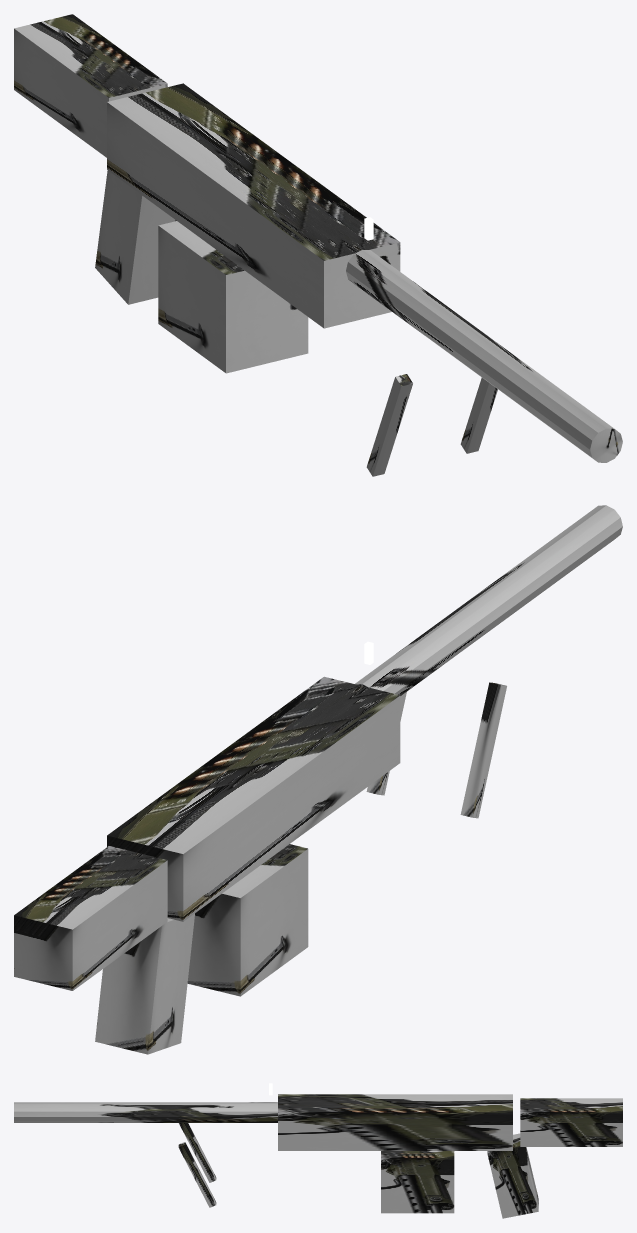
The model's file is lmg.glb.
The picture shows the model from 3 angles, top to bottom: view 1: azimuth 30°, elevation 25°; view 2: azimuth 150°, elevation 25°; view 3: azimuth 270°, elevation 25°; orthographic projection. The views are drawn at different scales.
Visible parts, largest first — view 1: WeaponMesh; view 2: WeaponMesh; view 3: WeaponMesh.
Part boxes in pixels (x1,y1,x2,y2): WeaponMesh: (14, 14, 622, 476); WeaponMesh: (14, 505, 622, 1054); WeaponMesh: (14, 1083, 622, 1218).
Size of the model in its own units: 0.09 by 0.1921 by 0.83.
Materials: 4 (3 with a texture image).
